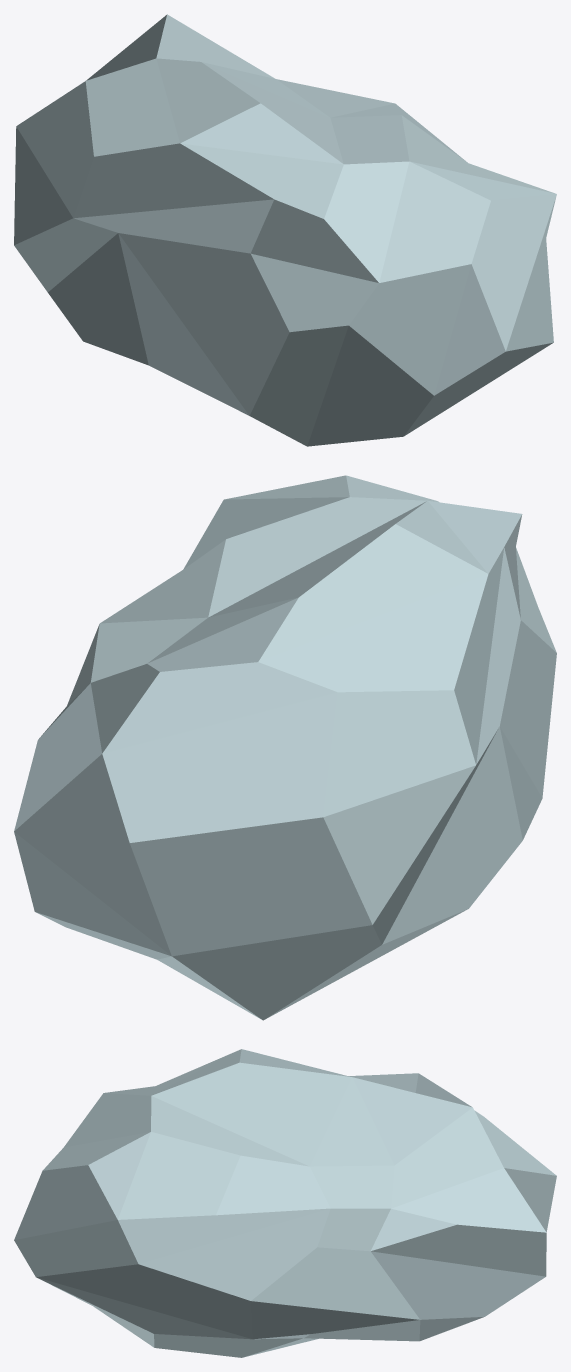
File: Cloud.fbx
3 renders of one model, top to bottom at view 1: azimuth 30°, elevation 25°; view 2: azimuth 150°, elevation 25°; view 3: azimuth 270°, elevation 25°, orthographic. The views are drawn at different scales.
Visible parts, largest first — view 1: Platonic; view 2: Platonic; view 3: Platonic.
Part boxes in pixels (<box>): Platonic: <box>14,14,556,446</box>; Platonic: <box>14,475,556,1020</box>; Platonic: <box>14,1049,556,1357</box>.
Size of the model in its own units: 126 by 105 by 202.
